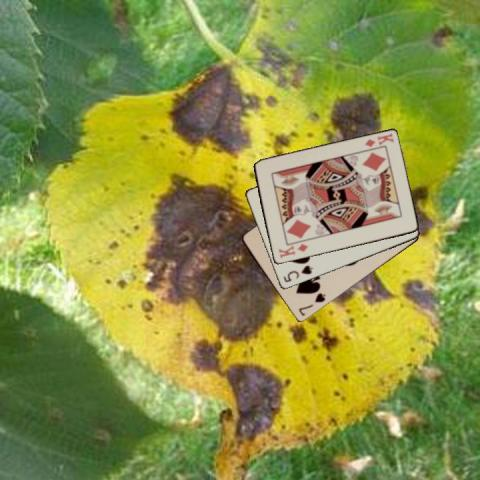5s: (280, 263, 314, 284)
7s: (296, 290, 328, 317)
Kd: (276, 241, 310, 260), (362, 130, 395, 149)
